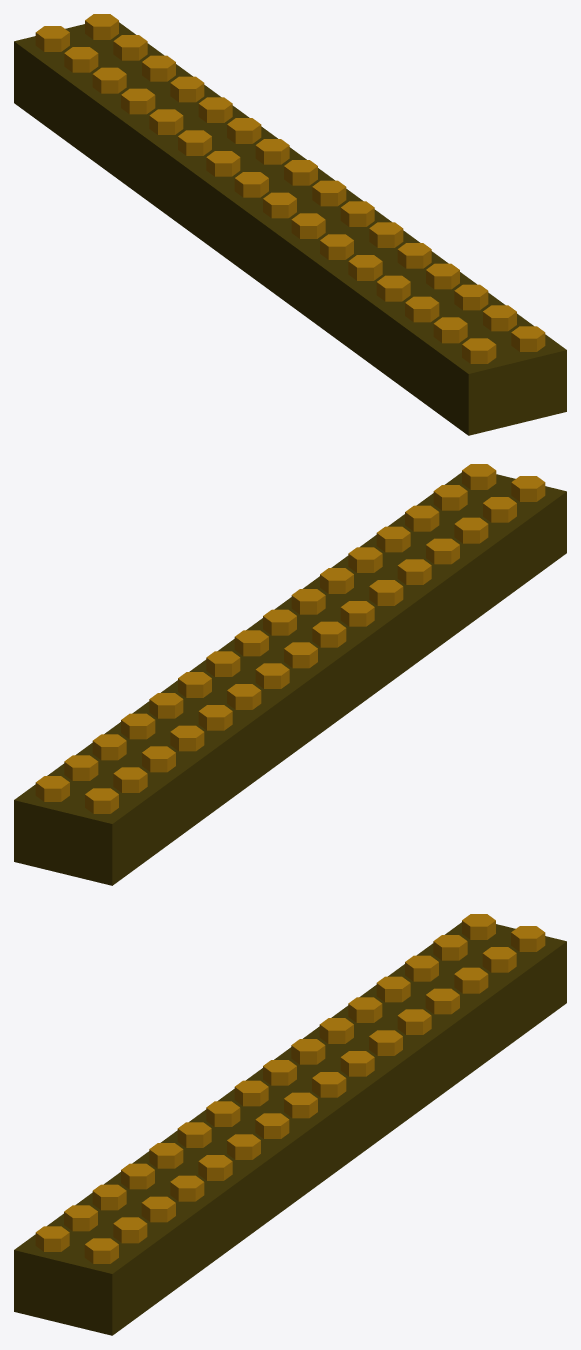
Rendered from meio_fio.obj.
The picture shows the model from 3 angles, top to bottom: view 1: azimuth 30°, elevation 25°; view 2: azimuth 150°, elevation 25°; view 3: azimuth 330°, elevation 25°; orthographic projection.
Visible parts, largest first — view 1: Cylinder.001; view 2: Cylinder.001; view 3: Cylinder.001.
Boxes of the visible parts, x1,y1,x2,y2 form: Cylinder.001: [14, 14, 566, 435]; Cylinder.001: [14, 464, 566, 885]; Cylinder.001: [14, 914, 566, 1335].
Bounding box in the file's own units: 2 × 1.46 × 16.
